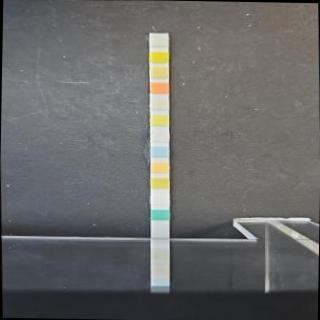mark: (150, 208, 169, 220), (150, 192, 168, 204), (150, 176, 168, 188), (150, 98, 168, 110), (150, 82, 168, 94), (150, 66, 168, 78), (150, 51, 168, 63), (151, 160, 168, 172), (151, 130, 168, 142), (150, 114, 168, 125), (150, 36, 168, 46), (151, 146, 168, 156)
